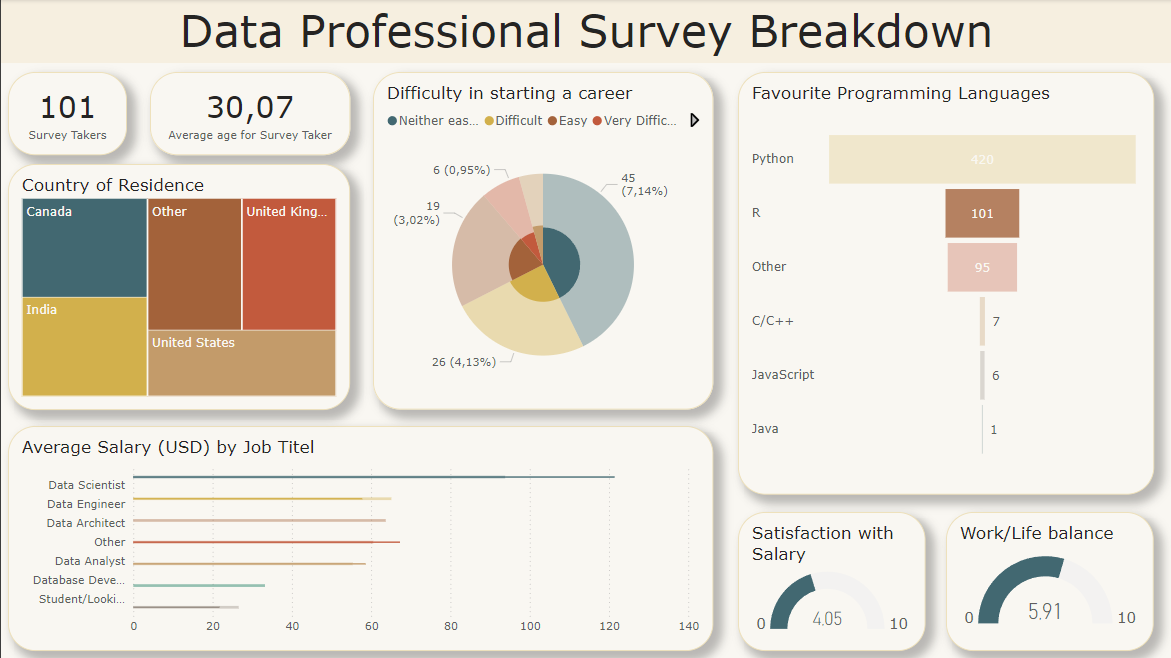

Layout of this report page (visuals, bound fields, positions):
{"tool":"powerbi","page":{"name":"Side 1","canvas":[1280,720],"ordinal":0},"visuals":[{"type":"textbox","box":[0,0,1280,70],"z":0},{"type":"card","fields":{"Values":["Count(Data Professional Survey.Unique ID)"]},"box":[7.7,79.8,130.1,90.7],"z":1000},{"type":"card","fields":{"Values":["Avg(Data Professional Survey.Q10 - Current Age)"]},"box":[162.9,79.8,218.6,90.7],"z":2000},{"type":"clusteredBarChart","title":"Average Salary (USD) by Job Titel","fields":{"Category":["Data Professional Survey.Q1 - Which Title Best Fits your Current Role?.1"],"Y":["Avg(Data Professional Survey.Average Salary)"],"Series":["Data Professional Survey.Q1 - Which Title Best Fits your Current Role?.1"]},"box":[7.7,466.7,770.6,245.9],"z":3000},{"type":"funnel","title":"Favourite Programming Languages","fields":{"Category":["Data Professional Survey.Q5 - Favorite Programming Language.1.1.1","Data Professional Survey.Q1 - Which Title Best Fits your Current Role?.1"],"Y":["CountNonNull(Data Professional Survey.Unique ID)"]},"box":[805.6,79.8,454.7,462.4],"z":4000},{"type":"treemap","title":"Country of Residence","fields":{"Group":["Data Professional Survey.Q11 - Which Country do you live in?.1"],"Values":["Count(Data Professional Survey.Q11 - Which Country do you live in?.1)"]},"box":[7.7,180.4,373.8,268.9],"z":5000},{"type":"gauge","title":"Work/Life balance","fields":{"Y":["Avg(Data Professional Survey.Q6 - How Happy are you in your Current Position with the following? (Work/Life Balance))"],"MinValue":["Min(Data Professional Survey.Q6 - How Happy are you in your Current Position with the following? (Work/Life Balance))1"],"MaxValue":["Max(Data Professional Survey.Q6 - How Happy are you in your Current Position with the following? (Work/Life Balance))2"]},"box":[1033,560.8,227.4,151.9],"z":6000},{"type":"gauge","title":"Satisfaction with Salary","fields":{"Y":["Avg(Data Professional Survey.Q6 - How Happy are you in your Current Position with the following? (Salary))"],"MinValue":["Min(Data Professional Survey.Q6 - How Happy are you in your Current Position with the following? (Salary))"],"MaxValue":["Max(Data Professional Survey.Q6 - How Happy are you in your Current Position with the following? (Salary))"]},"box":[805.6,560.8,205.5,151.9],"z":7000},{"type":"pieChart","title":"Difficulty in starting a career","fields":{"Y":["CountNonNull(Data Professional Survey.Q7 - How difficult was it for you to break into Data?)"],"Category":["Data Professional Survey.Q7 - How difficult was it for you to break into Data?"]},"box":[406.6,79.8,371.6,369.5],"z":8000}]}

Visuals, with their boxes in screenshot pixels (x1, y1, x2, y2), scaled from the page's 1280x720 canvas onto the 1171x658 screenshot:
textbox: locate(0, 0, 1170, 64)
card - Count(Data Professional Survey.Unique ID): locate(7, 73, 126, 156)
card - Avg(Data Professional Survey.Q10 - Current Age): locate(149, 73, 349, 156)
"Average Salary (USD) by Job Titel" clusteredBarChart: locate(7, 427, 712, 651)
"Favourite Programming Languages" funnel: locate(737, 73, 1153, 496)
"Country of Residence" treemap: locate(7, 165, 349, 411)
"Work/Life balance" gauge: locate(945, 513, 1153, 651)
"Satisfaction with Salary" gauge: locate(737, 513, 925, 651)
"Difficulty in starting a career" pieChart: locate(372, 73, 712, 411)
